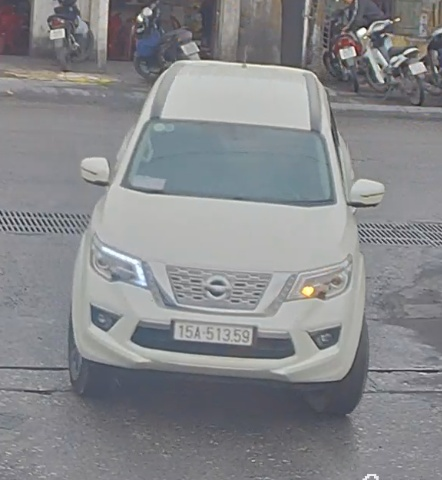vehicle plate: (163, 312, 260, 351)
